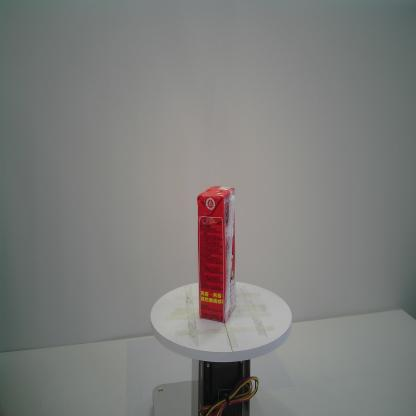Milk: (196, 184, 238, 324)
